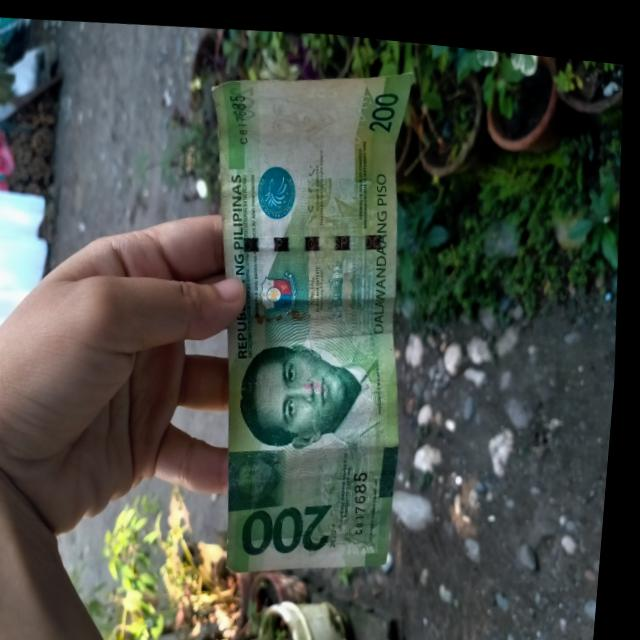concealed_value: (231, 436, 300, 509)
security_thread: (223, 209, 398, 260)
see_through_mark: (341, 79, 380, 159)
serial_number: (225, 82, 254, 149), (355, 458, 381, 529)
value: (244, 483, 349, 562)
value_watermark: (300, 66, 349, 104)
watermark: (240, 73, 361, 161)
